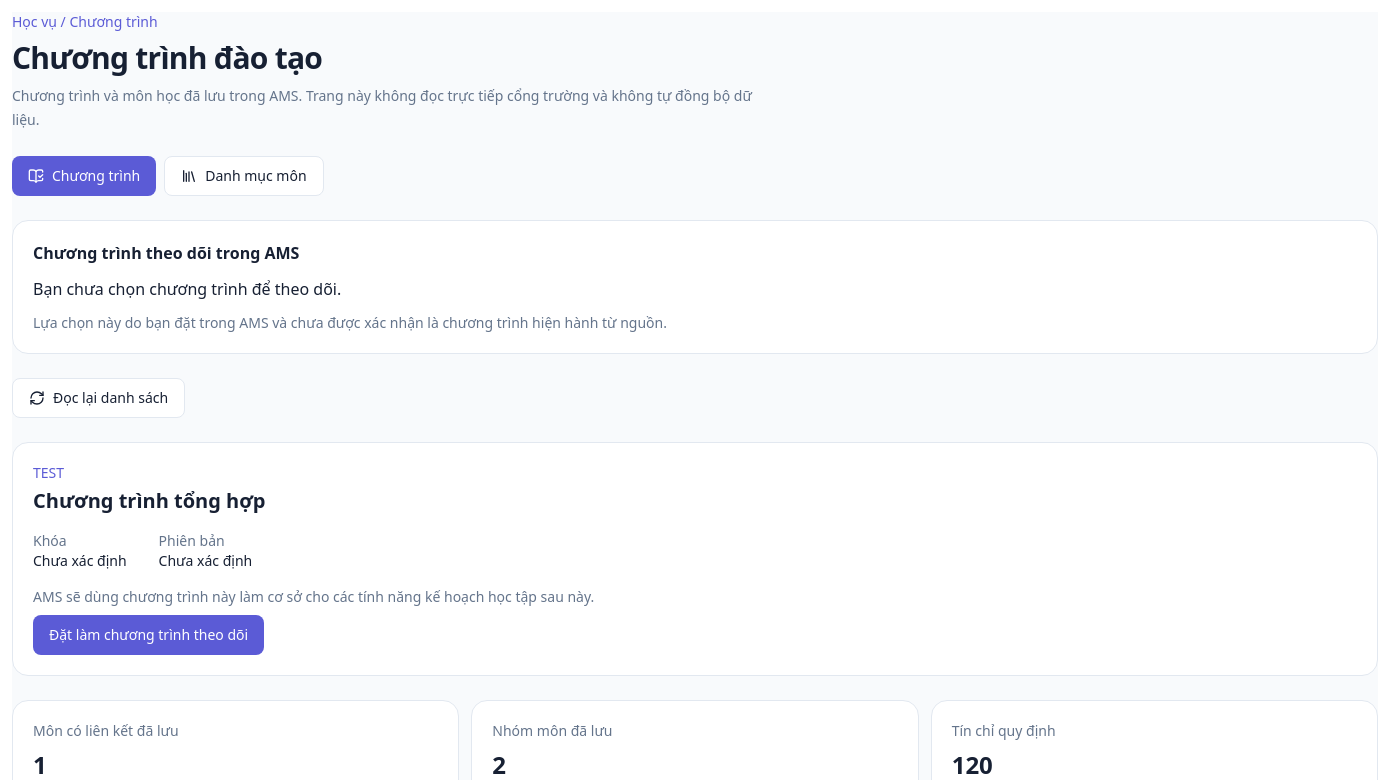
Test: Persisted curriculum browser › keeps a single curriculum unselected until the user chooses it
Expected: the text "Bạn chưa chọn chương trình để theo dõi." is shown, [33,278,341,300]
Click the button "Đặt làm chương trình theo dõi" at (149, 635), box [33,615,264,655]
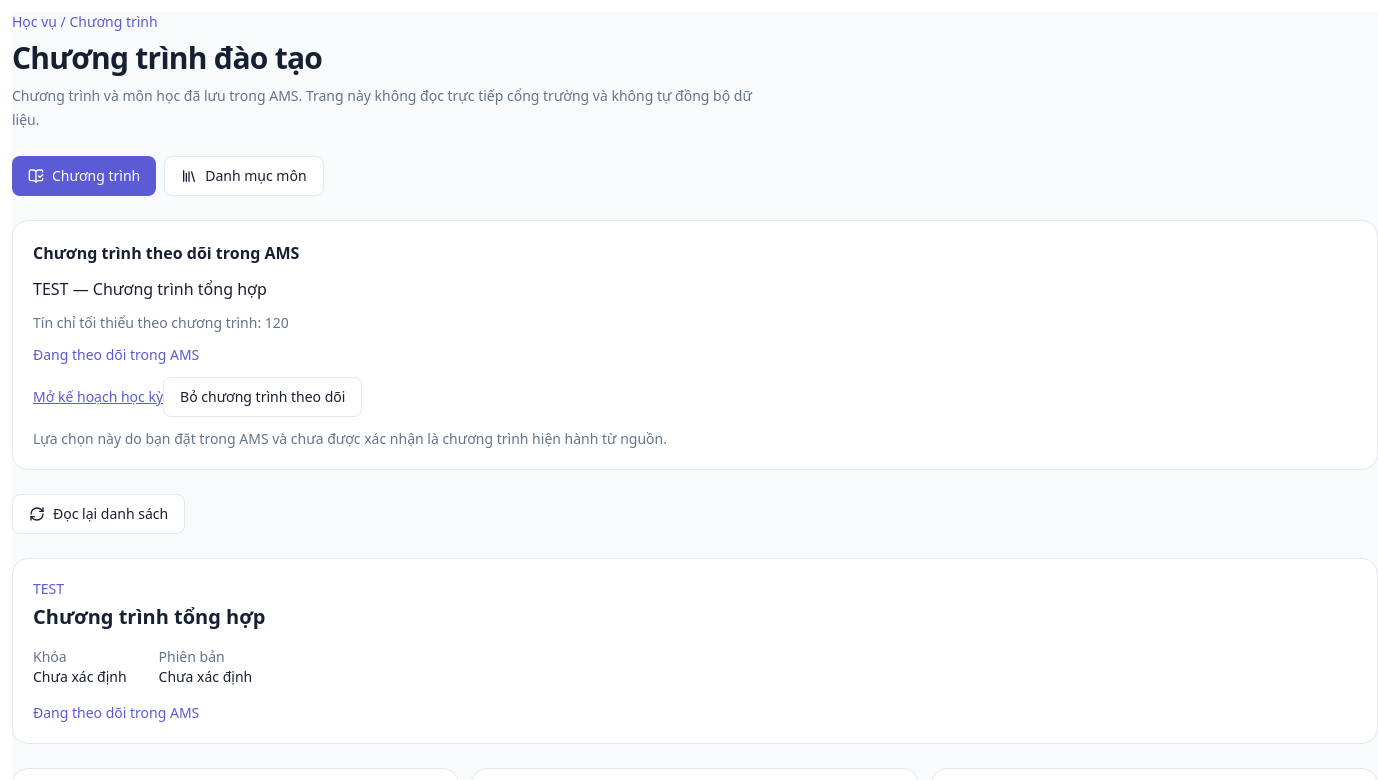
Result: the text "Đang theo dõi trong AMS" is shown 2 times at [33,345,199,364]; [33,703,199,722]
Result: the text "Bạn chưa chọn chương trình để theo dõi." is gone
Click the button "Bỏ chương trình theo dõi" at (263, 397), box [163,377,362,417]
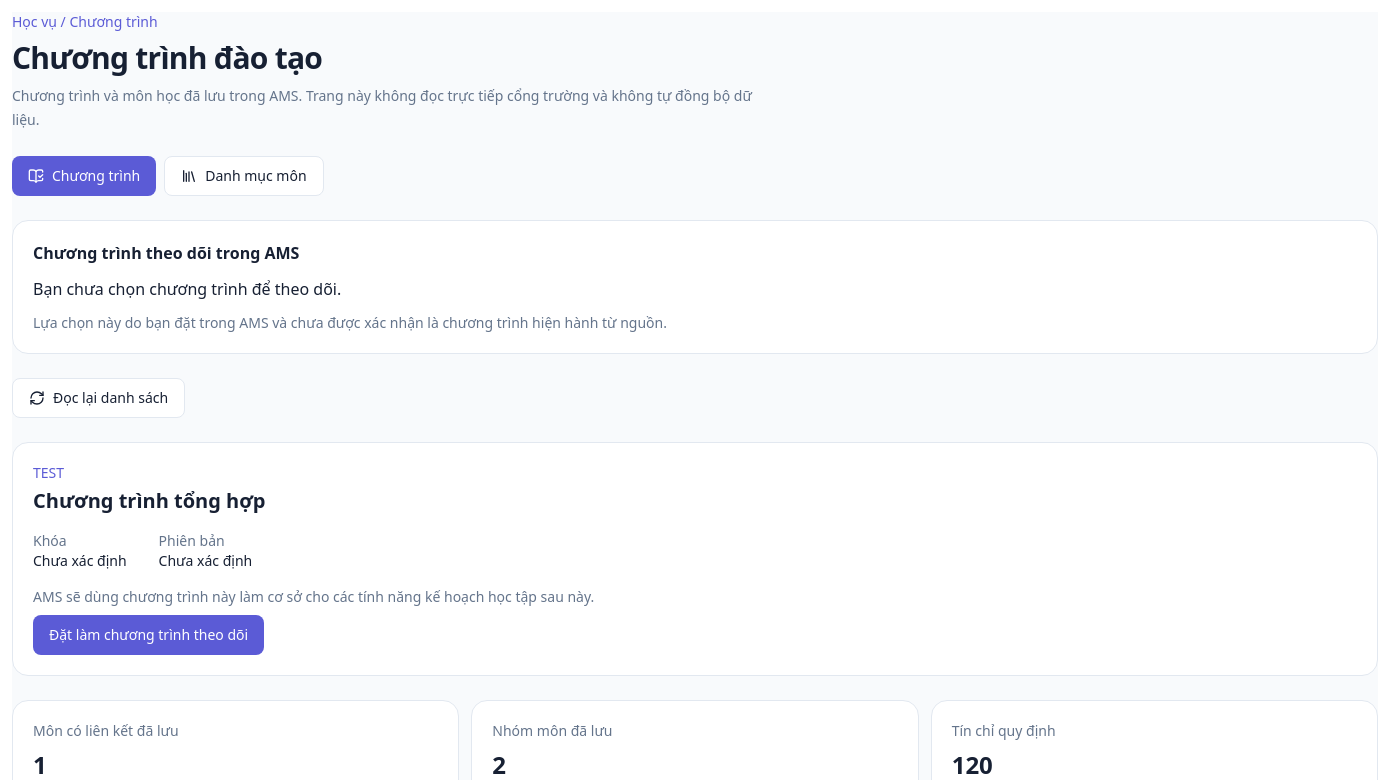
Result: the text "Bạn chưa chọn chương trình để theo dõi." is shown at [33,278,341,300]
